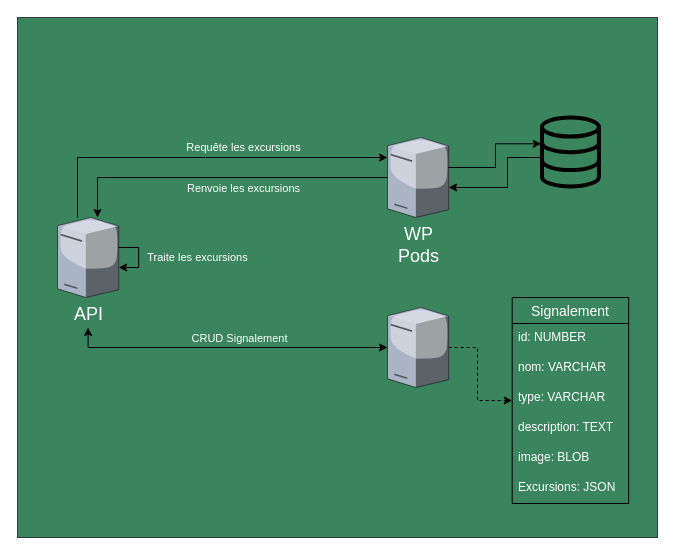
Image size: 675x555. Some labels were removed from this diagram. Here are the shapes that lost their labels. From the top down, the centre of each, then its label:
the point at 570,151: WP DB
the point at 417,347: BD
